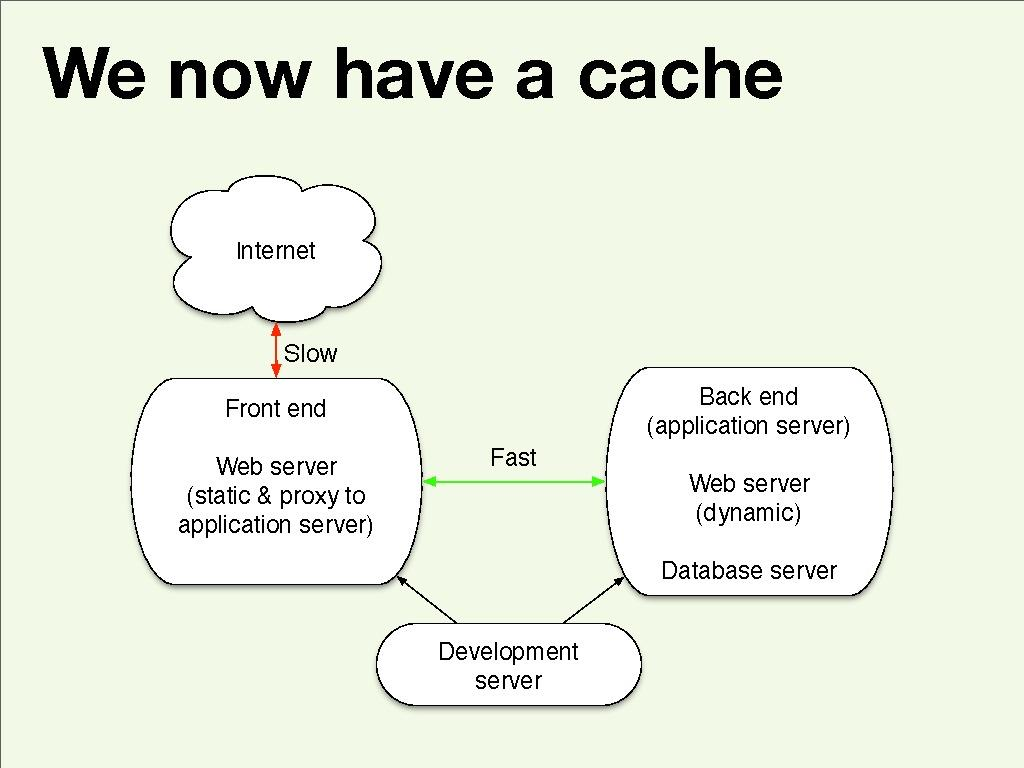title: (34, 20, 797, 116)
